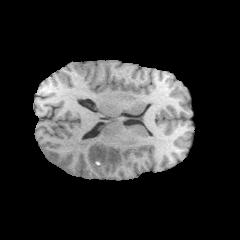glioma: (56, 133, 133, 178)
